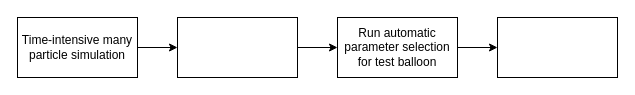
Some shapes in this 635 by 95 pixel diagram are drawn without their labels. The shapes that lost their labels are listed below. From the top down, each one's centre as x and y in pixels, then its label:
pixel 237 47: Find a "test balloon" (i.e., an equivalent single particle system)
pixel 557 47: Use resulting parameters for original many particle system
